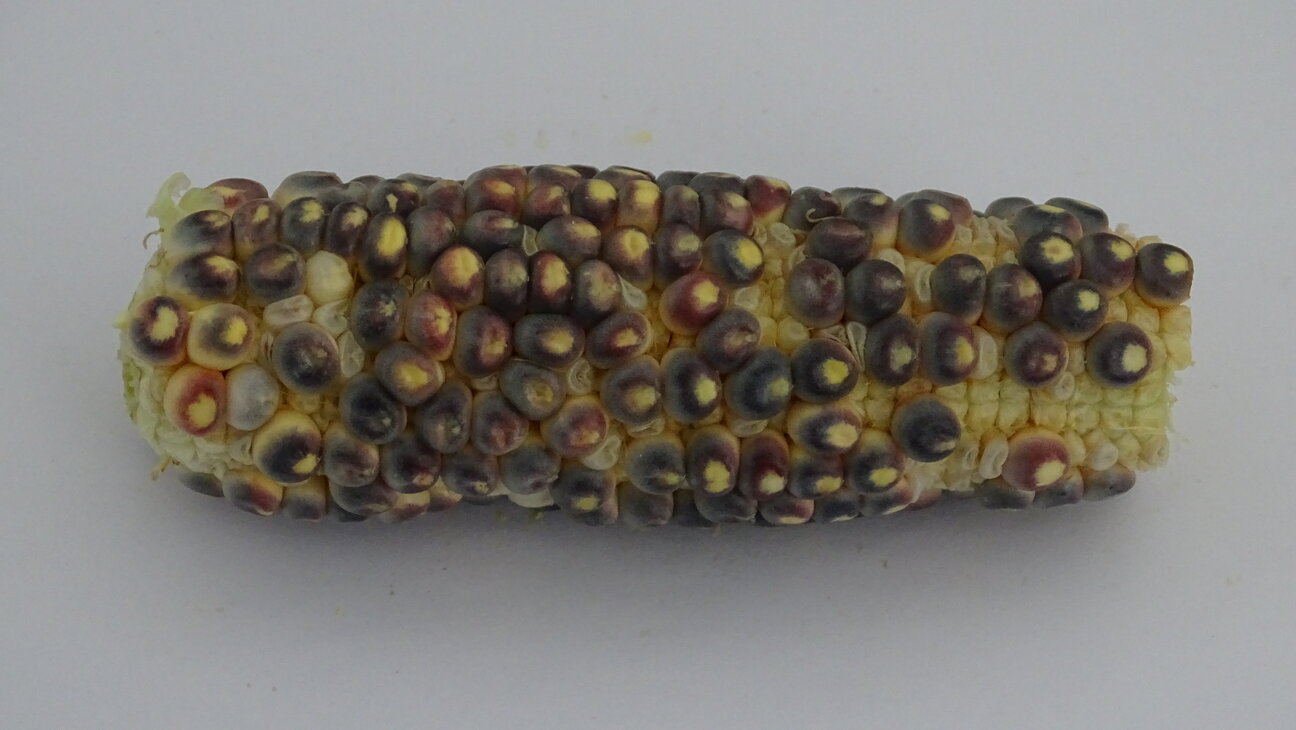corn: (890, 396, 964, 462)
